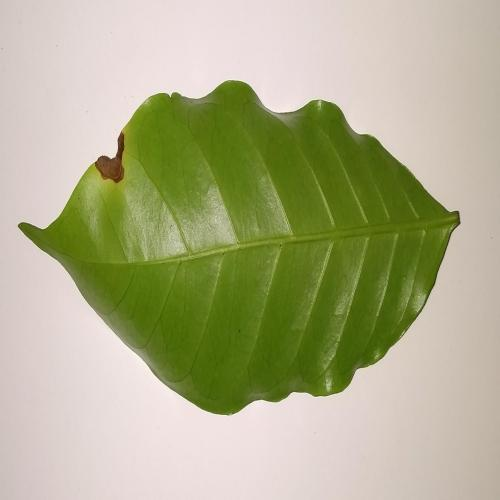miner: (94, 131, 124, 183)
